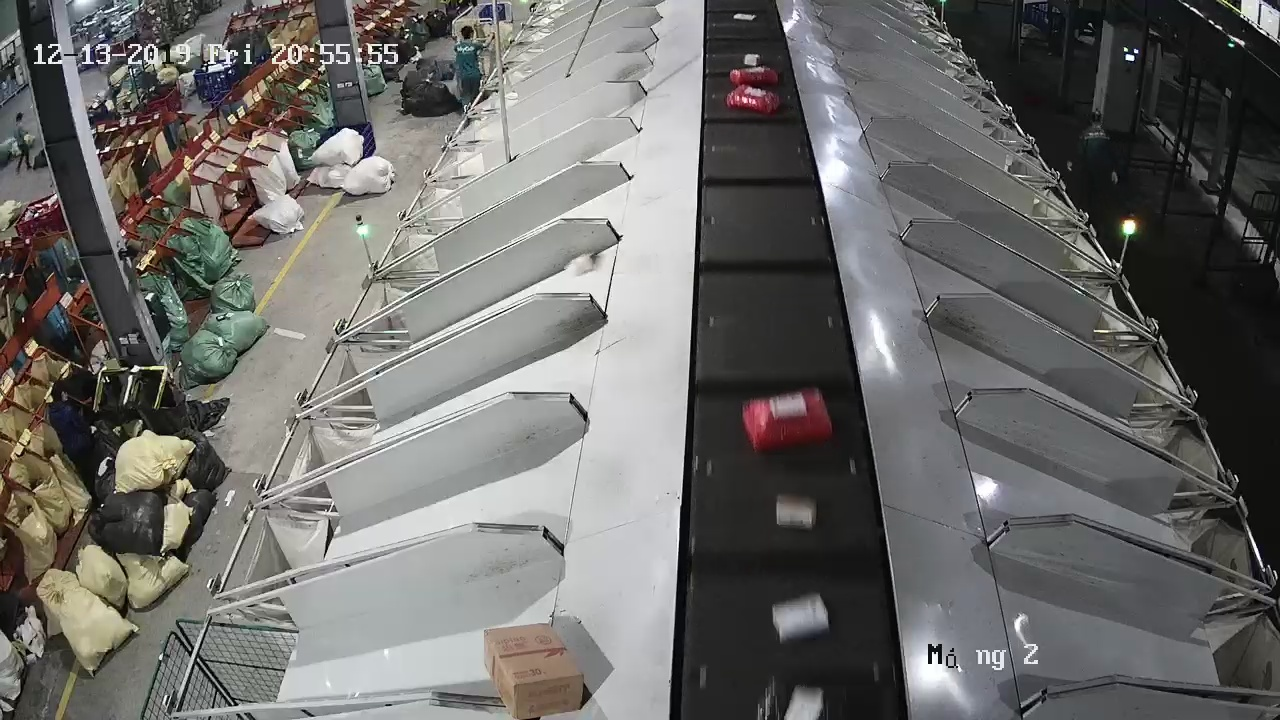parcel: (563, 252, 598, 277)
